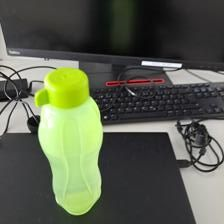bottle: (37, 67, 104, 215)
